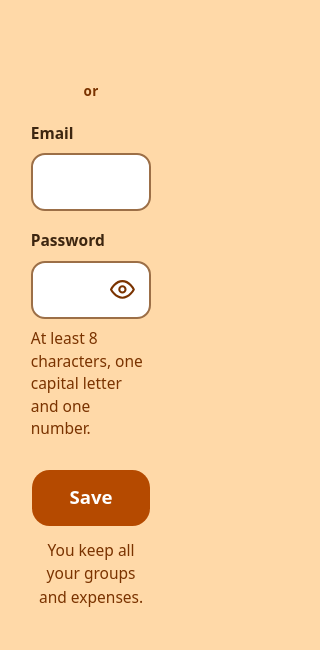
Scenario: the routes a guest cannot use, followed through the real route table › shows Settings with the account view when the account was already made elsewhere
This screenshot has width=320, height=650.
(page scrolled)
What coordinates should you click on to do the following:
click the button "Save"
I would click on:
 (91, 498)
Its box is [31, 469, 151, 527].
(page scrolled)
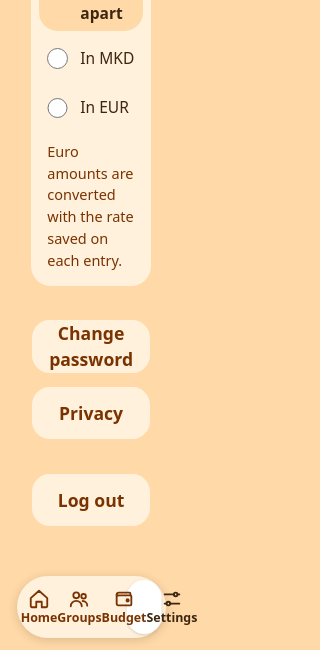
Result: the link "Change password" is shown at [31, 319, 151, 374]
